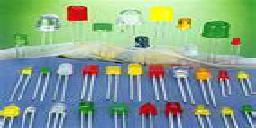LED: (197, 18, 232, 64), (65, 2, 86, 45), (36, 12, 59, 47), (53, 61, 72, 100), (106, 63, 125, 102), (116, 7, 141, 36), (138, 103, 159, 127)
